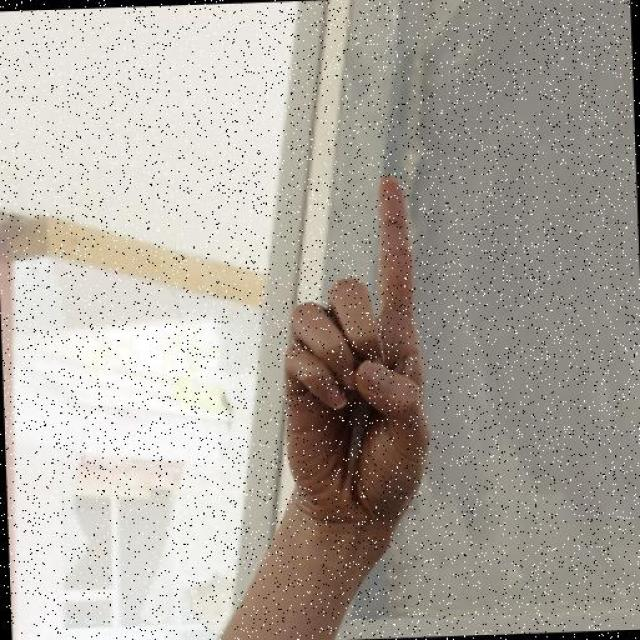D: (263, 169, 436, 520)
